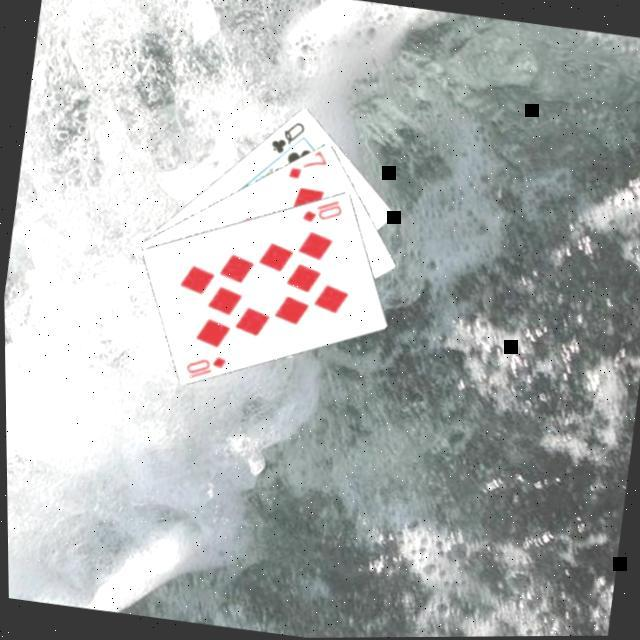10D: (179, 349, 229, 387), (296, 193, 346, 230)
7D: (282, 146, 330, 188)
QC: (264, 116, 308, 162)
